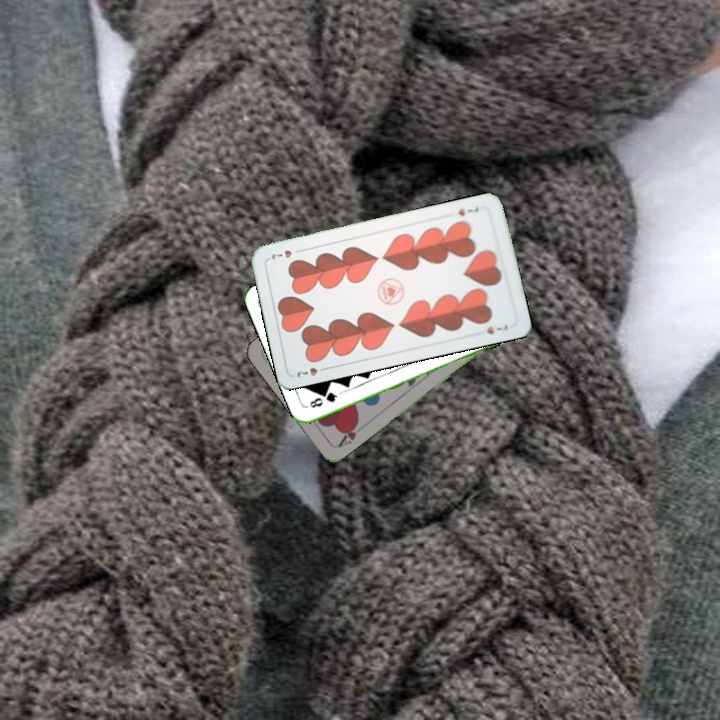G8: (305, 388, 343, 410)
H7: (293, 363, 331, 379), (454, 203, 481, 219)
HA: (334, 417, 368, 450)
